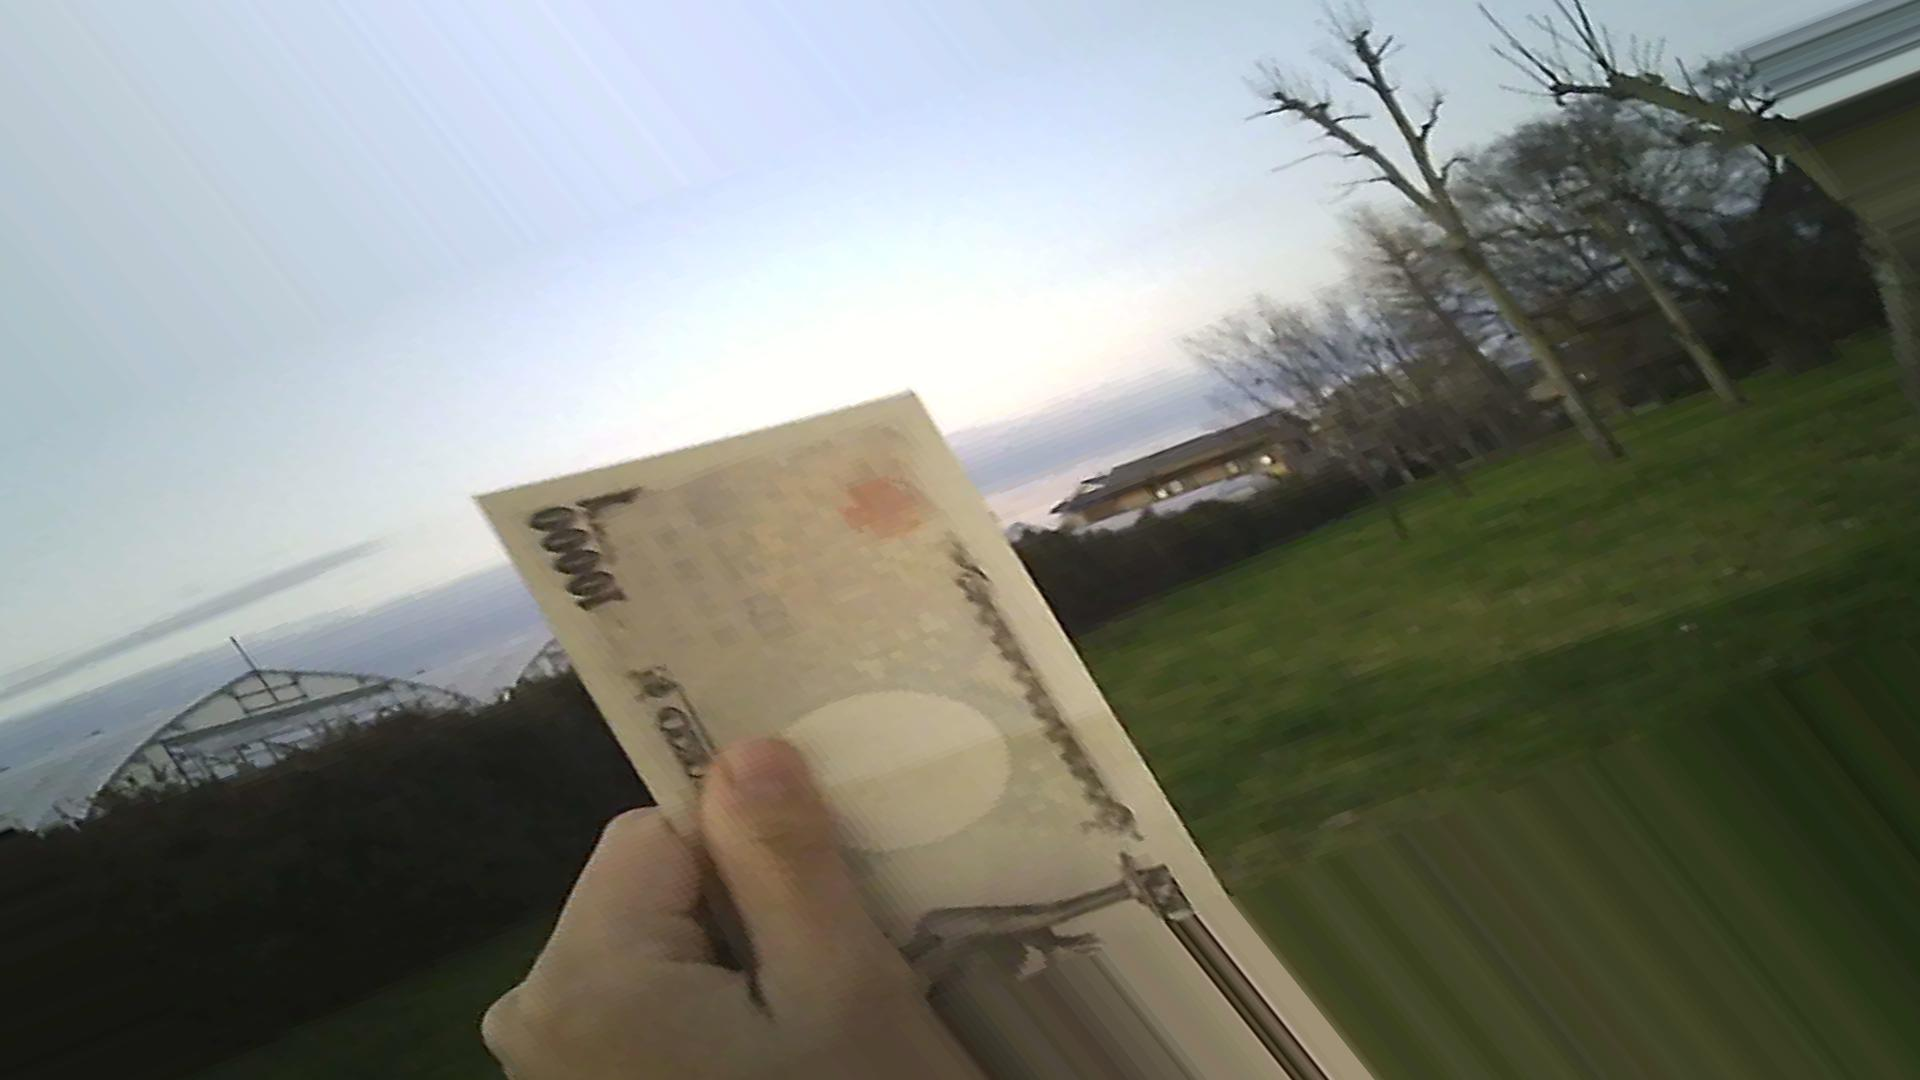10,000 Yen: (468, 419, 1237, 975)
